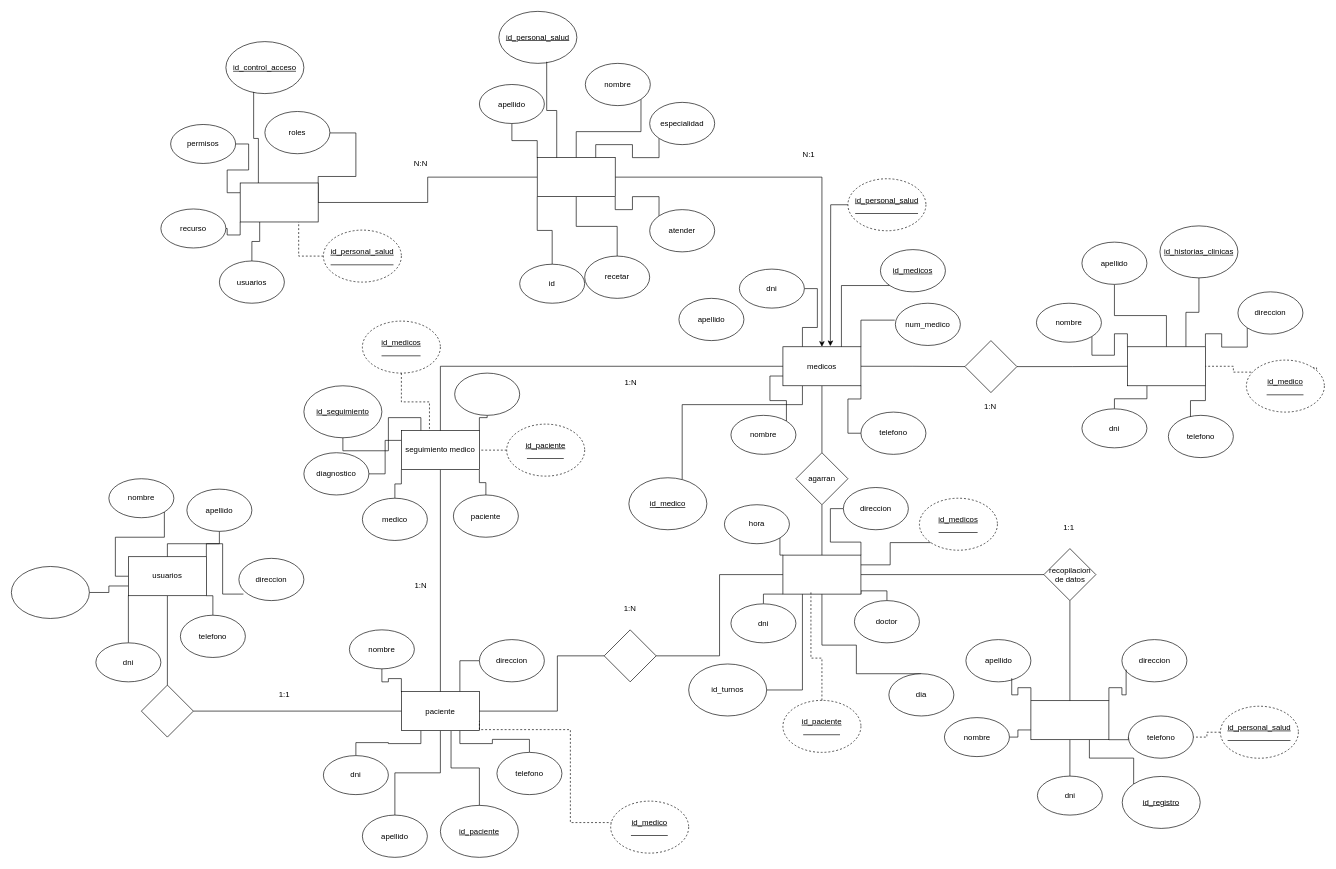
Image size: 1336x869. Some labels were removed from this diagram. The centre of each missing label's shape, as x and y in pixels:
"cita" belongs at point 487,393.
"control de acceso" belongs at point 279,202.
"crea cuenta" belongs at point 167,710.
"cuentan" belongs at point 990,366.
"historias clinicas" belongs at point 1166,366.
"id_usuario" belongs at point 50,592.
"personal de salud" belongs at point 576,177.
"registro de pacientes" belongs at point 1069,720.
"solicitan" belongs at point 630,655.
"turnos" belongs at point 821,574.
